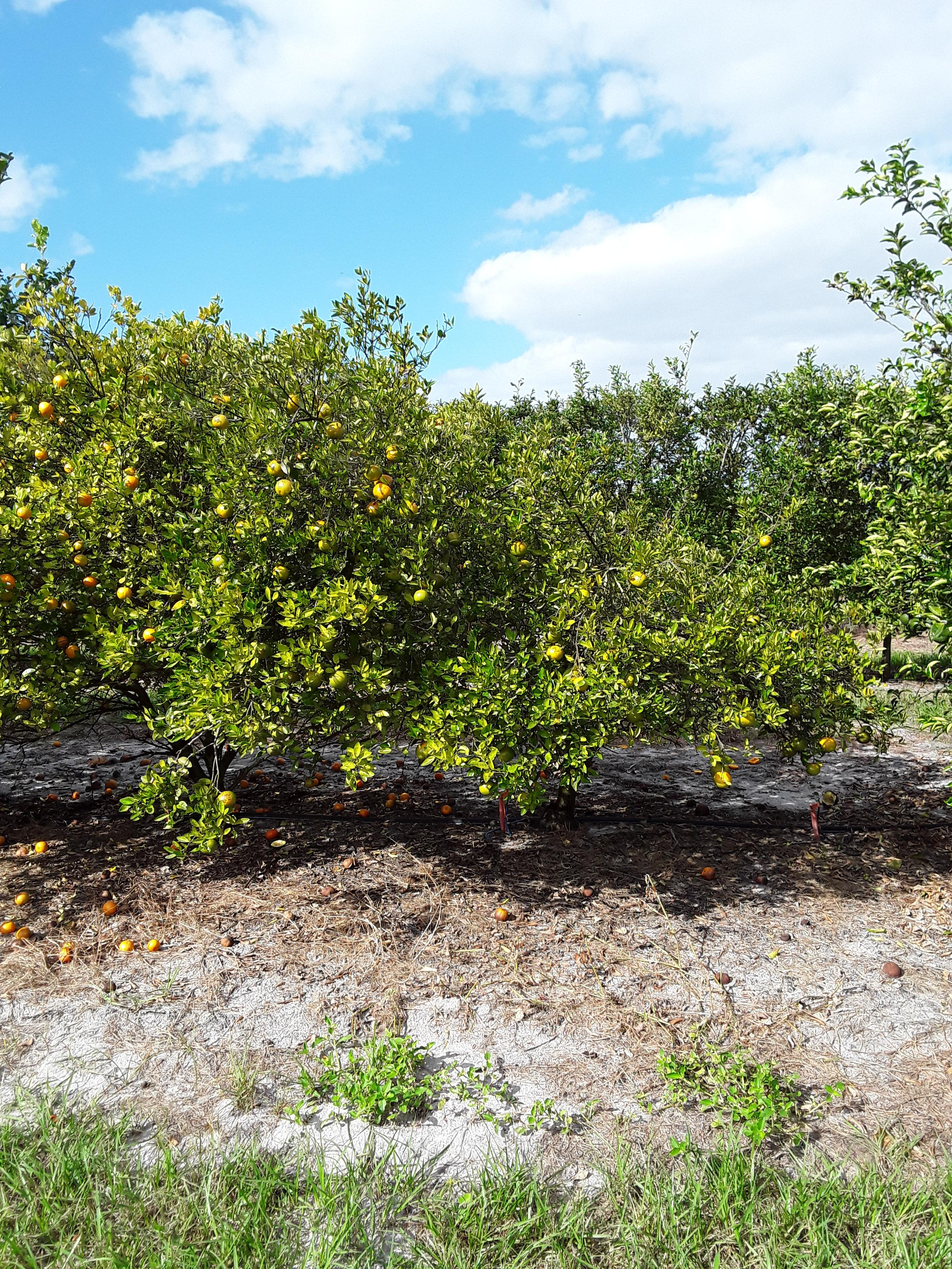fruit_on_ground: (281, 393, 303, 417), (736, 707, 757, 729), (413, 741, 435, 762), (324, 421, 345, 442), (616, 668, 637, 689), (328, 668, 349, 689), (231, 519, 253, 539), (369, 482, 392, 501), (399, 499, 420, 519), (263, 458, 285, 477), (317, 536, 340, 554), (121, 475, 141, 495), (252, 641, 272, 661), (712, 770, 732, 790), (214, 789, 234, 809), (425, 573, 446, 592), (411, 586, 430, 607), (497, 745, 516, 766), (818, 734, 837, 754), (384, 565, 405, 583), (625, 706, 646, 724), (476, 779, 497, 797), (209, 414, 231, 431), (789, 734, 808, 753), (385, 444, 405, 462), (273, 478, 293, 496), (215, 501, 235, 519), (40, 596, 60, 614), (353, 600, 371, 620), (570, 676, 590, 694), (308, 519, 327, 537), (742, 612, 762, 629), (270, 726, 290, 743), (315, 400, 333, 418), (362, 463, 380, 481), (785, 701, 803, 719), (780, 742, 798, 760), (35, 401, 54, 418), (210, 552, 230, 568), (270, 565, 290, 581), (380, 617, 396, 637), (65, 644, 83, 661), (788, 629, 807, 645), (264, 741, 283, 757), (362, 501, 382, 516), (351, 489, 368, 506), (15, 505, 32, 522), (140, 626, 157, 643), (304, 671, 321, 688), (508, 540, 527, 555), (628, 571, 647, 586), (32, 447, 49, 463), (413, 588, 430, 604), (805, 760, 822, 776), (51, 374, 68, 390), (208, 390, 223, 408), (376, 473, 394, 488), (75, 492, 93, 507), (71, 554, 89, 569), (0, 573, 15, 591), (13, 697, 31, 712), (854, 730, 872, 745), (98, 440, 114, 456), (863, 705, 879, 721), (444, 530, 462, 544), (71, 540, 89, 554), (59, 601, 77, 615), (547, 641, 561, 659), (54, 528, 69, 544), (116, 587, 131, 603), (136, 372, 152, 387), (757, 534, 774, 548), (178, 353, 193, 368), (219, 395, 235, 409), (81, 368, 98, 381), (81, 576, 96, 590), (539, 767, 553, 782), (55, 416, 70, 429), (62, 460, 75, 475), (56, 635, 69, 649), (8, 409, 18, 423)
fruit_on_tree: (880, 961, 906, 982), (10, 892, 31, 908), (700, 865, 718, 883), (712, 971, 733, 986), (493, 905, 510, 923), (692, 803, 713, 817), (100, 900, 118, 916), (262, 827, 279, 843), (33, 839, 49, 856), (0, 920, 16, 937), (42, 791, 60, 806), (14, 845, 32, 860), (116, 939, 135, 953), (572, 951, 591, 965), (9, 939, 27, 953), (15, 927, 34, 940), (144, 939, 161, 953), (235, 778, 253, 791), (102, 980, 119, 993), (58, 949, 73, 963), (320, 885, 336, 898), (223, 837, 240, 849), (99, 786, 114, 799), (61, 941, 76, 954), (581, 886, 597, 898), (440, 803, 453, 817), (168, 840, 183, 852), (219, 935, 234, 947), (103, 778, 119, 789), (745, 755, 762, 765), (686, 796, 698, 810), (32, 771, 47, 782), (352, 779, 367, 790), (392, 777, 408, 787), (306, 776, 318, 789), (399, 790, 411, 803), (342, 858, 355, 870), (432, 772, 445, 783), (68, 791, 81, 802), (252, 806, 266, 816), (117, 753, 132, 762), (726, 762, 741, 771), (0, 833, 9, 848), (273, 757, 286, 767), (394, 759, 407, 769), (312, 771, 325, 781), (259, 776, 272, 786), (386, 792, 399, 802), (332, 802, 345, 812), (692, 766, 703, 777), (51, 740, 63, 750), (358, 808, 370, 818), (330, 762, 341, 772), (661, 774, 672, 784), (385, 799, 396, 809), (140, 757, 151, 766), (250, 769, 264, 776), (378, 781, 390, 789), (421, 783, 431, 791)
